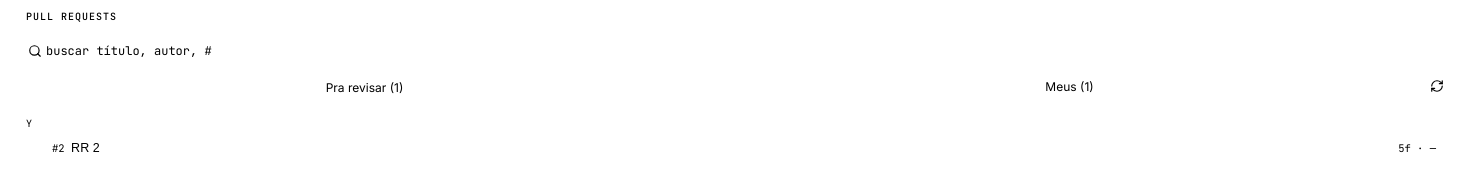
Test case: PrListPanel › filters by search query across title, author, number
The image size is (1464, 193).
Type "RR" into the field named "Buscar PRs" at (732, 51), box [22, 39, 1442, 63]
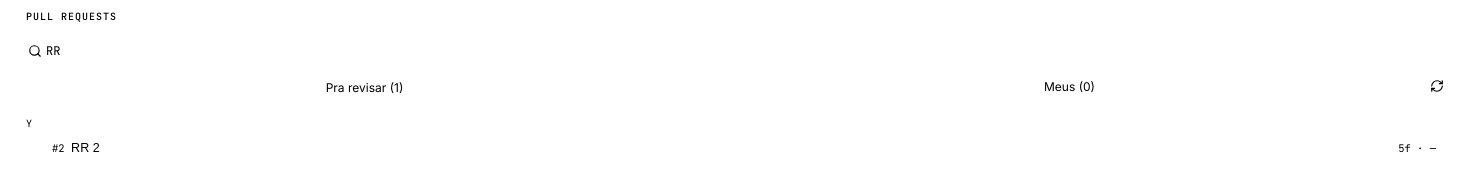
Expected: the text "RR 2" is shown, [71, 141, 100, 155]
Expected: the tab "Meus (0)" is shown, [717, 71, 1422, 103]
Replace the text in the field named "Buscar PRs" with "me" at (732, 51), box [22, 39, 1442, 63]
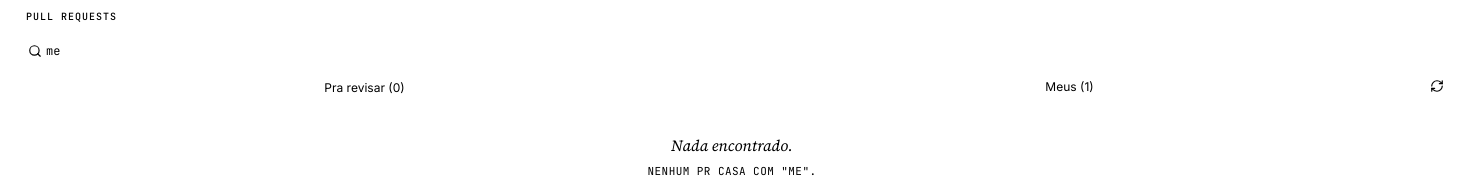
Expected: the button "RR 2" is gone
Expected: the tab "Meus (1)" is shown, [717, 71, 1422, 103]
